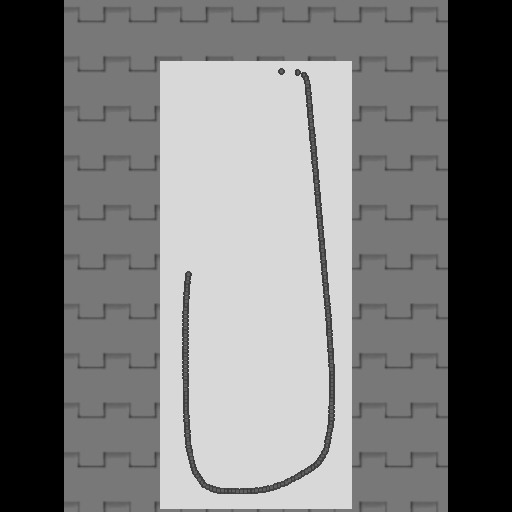Defect: (181, 80, 224, 272)
